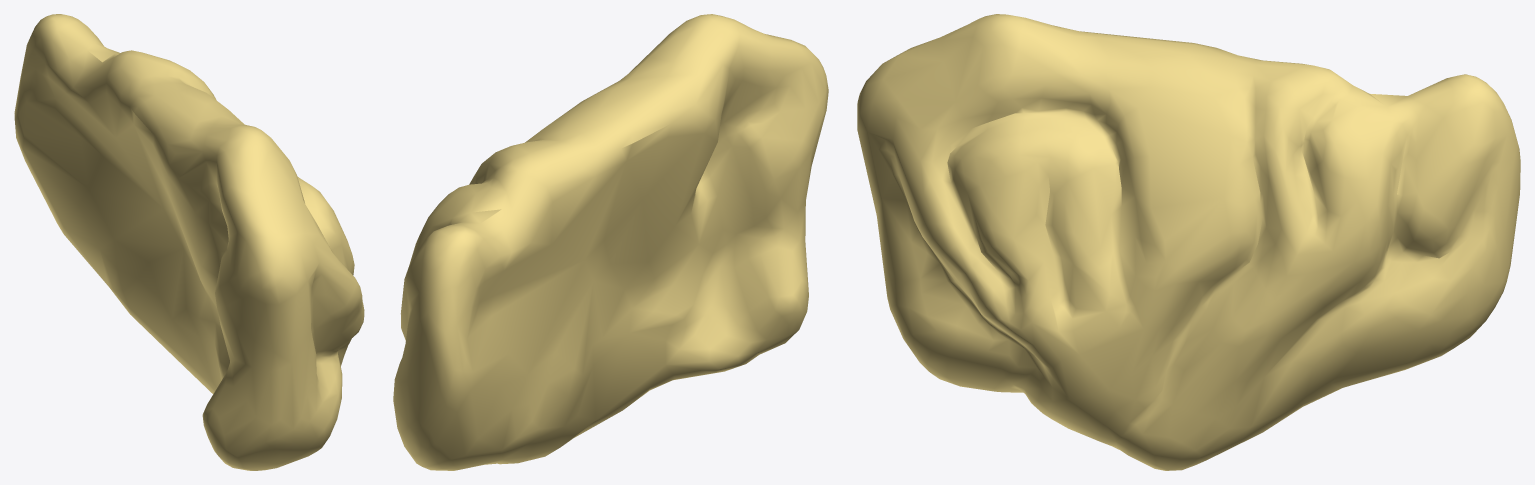
Rendered from fma72978_fj1748.glb.
The picture shows the model from 3 angles, left to right: view 1: azimuth 30°, elevation 25°; view 2: azimuth 150°, elevation 25°; view 3: azimuth 270°, elevation 25°; orthographic projection. The views are drawn at different scales.
Visible parts, largest first — view 1: FMA72978_FJ1748; view 2: FMA72978_FJ1748; view 3: FMA72978_FJ1748.
Boxes of the visible parts, x1,y1,x2,y2 form: FMA72978_FJ1748: (14, 14, 364, 470); FMA72978_FJ1748: (393, 14, 828, 470); FMA72978_FJ1748: (857, 14, 1520, 470).
Bounding box in the file's own units: 0.0193 × 0.0346 × 0.0516.
